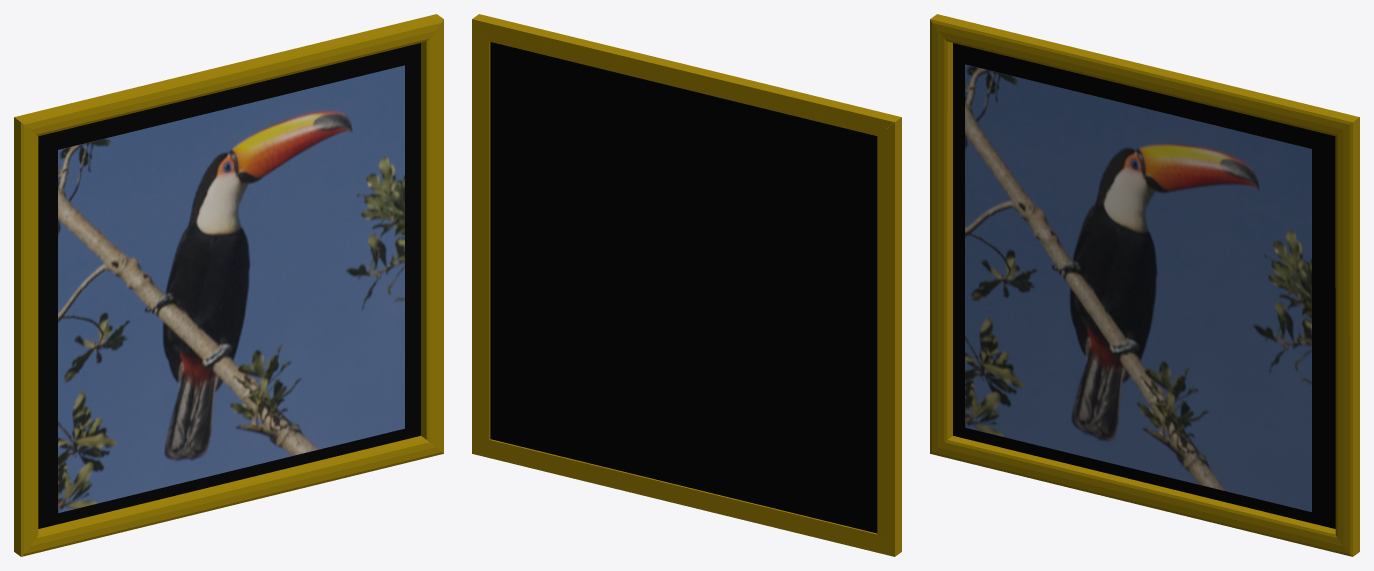
Rendered from sweethome3d-contributions-frame-tucan-284.glb.
3 views of the same model, side by side, from view 1: azimuth 30°, elevation 25°; view 2: azimuth 150°, elevation 25°; view 3: azimuth 330°, elevation 25° (orthographic).
Visible parts, largest first — view 1: Photo_Cube_Material_Tucan, WoodFrame_Cylinder_Wood.003, Frame_Black_Material.015; view 2: Frame_Black_Material.015, WoodFrame_Cylinder_Wood.003; view 3: Photo_Cube_Material_Tucan, WoodFrame_Cylinder_Wood.003, Frame_Black_Material.015.
Boxes of the visible parts, <box> form: Photo_Cube_Material_Tucan: <box>58,65,404,513</box>; WoodFrame_Cylinder_Wood.003: <box>14,14,443,556</box>; Frame_Black_Material.015: <box>38,43,420,528</box>; Frame_Black_Material.015: <box>490,42,877,533</box>; WoodFrame_Cylinder_Wood.003: <box>472,14,901,556</box>; Photo_Cube_Material_Tucan: <box>965,64,1311,512</box>; WoodFrame_Cylinder_Wood.003: <box>930,14,1359,556</box>; Frame_Black_Material.015: <box>953,43,1335,528</box>.
Size of the model in its own units: 48.72 by 47.86 by 1.6.
3 materials, 1 textured.
